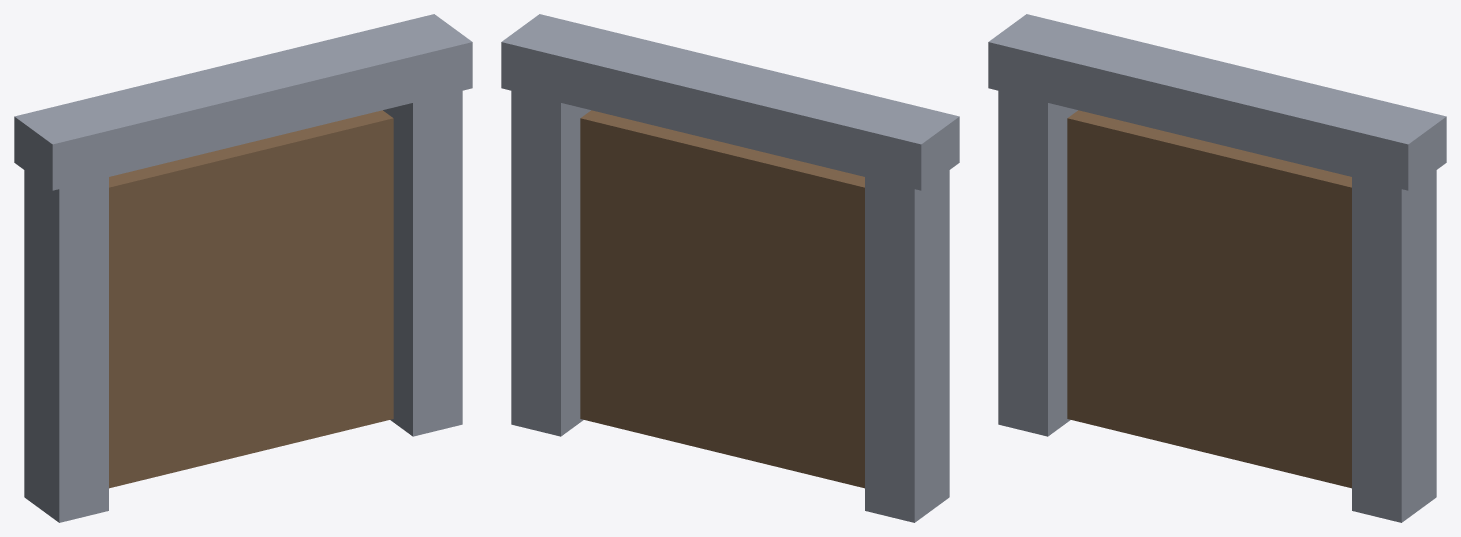
Rendered from SM_ShoreGate.fbx.
3 renders of one model, left to right at view 1: azimuth 30°, elevation 25°; view 2: azimuth 150°, elevation 25°; view 3: azimuth 330°, elevation 25°, orthographic.
Visible parts, largest first — view 1: SM_ShoreGate; view 2: SM_ShoreGate; view 3: SM_ShoreGate.
Boxes of the visible parts, x1,y1,x2,y2 form: SM_ShoreGate: (14,14,472,522); SM_ShoreGate: (501,14,959,522); SM_ShoreGate: (988,14,1446,522).
Bounding box in the file's own units: 3.8 × 3.3 × 0.6.
